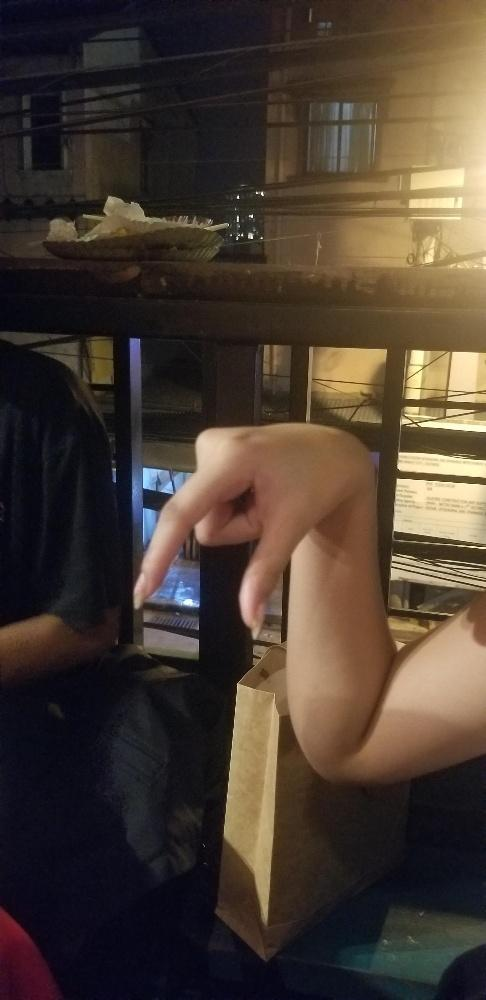q: (130, 417, 353, 644)
